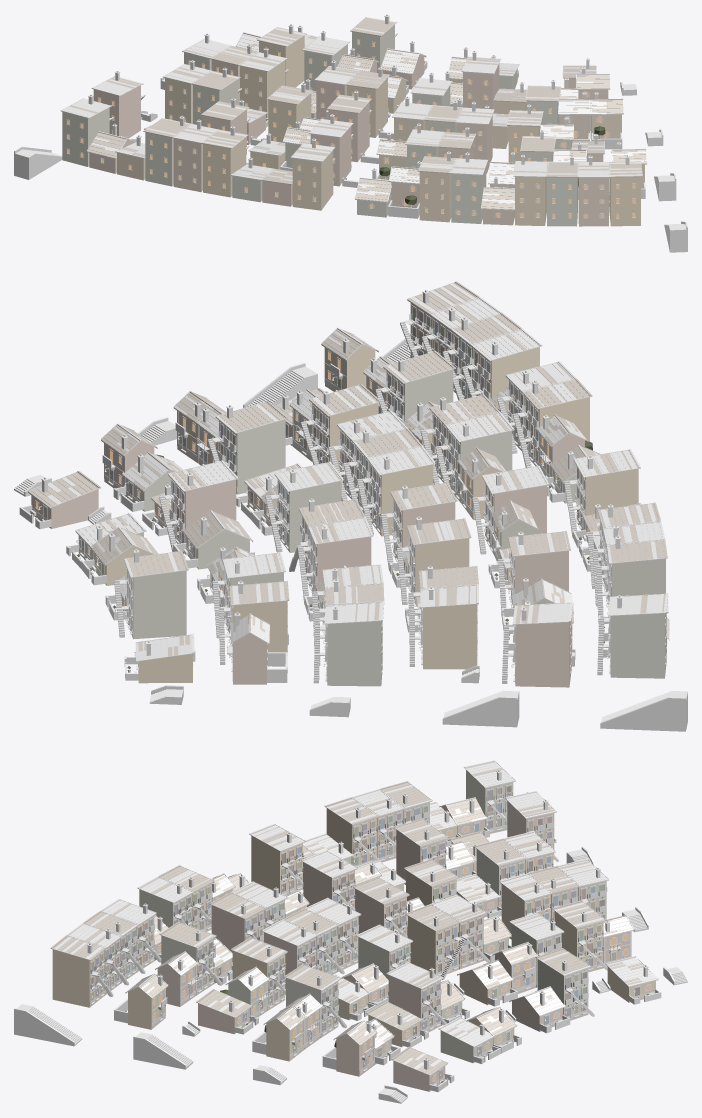
File: bld_moradas_SO.glb
3 renders of one model, top to bottom at view 1: azimuth 30°, elevation 25°; view 2: azimuth 150°, elevation 25°; view 3: azimuth 270°, elevation 25°, orthographic. The views are drawn at different scales.
Visible parts, largest first — view 1: Morada_SO_063_Body, Morada_SO_060_Body, Morada_SO_055_Body, Morada_SO_067_Body, Morada_SO_066_Body, Morada_SO_019_Body, Morada_SO_072_Body, Morada_SO_069_Body, Morada_SO_041_Body, Morada_SO_070_Body, Morada_SO_071_Body, Morada_SO_059_Body (+92 smaller); view 2: Morada_SO_041_Body, Morada_SO_055_Body, Morada_SO_002_Body, Morada_SO_017_Body, Morada_SO_029_Body, Morada_SO_026_Body, Morada_SO_013_Body, Morada_SO_063_Body, STAIRS_Terrace_Lateral_Morada_SW_20, Morada_SO_058_Body, Morada_SO_007_Body, Morada_SO_023_Body (+83 smaller); view 3: Morada_SO_072_Body, Morada_SO_022_Body, Morada_SO_063_Body, Morada_SO_013_Body, STAIRS_Terrace_Lateral_Morada_SW_24, Morada_SO_028_Body, Morada_SO_016_Body, Morada_SO_054_Body, Morada_SO_002_Body, Morada_SO_060_Body, Morada_SO_050_Body, Morada_SO_047_Body (+91 smaller).
Part boxes in pixels (x1,y1,x2,y2): Morada_SO_063_Body: [292, 150, 335, 210]; Morada_SO_060_Body: [203, 137, 249, 197]; Morada_SO_055_Body: [62, 107, 113, 166]; Morada_SO_067_Body: [451, 166, 486, 223]; Morada_SO_066_Body: [419, 171, 451, 222]; Morada_SO_019_Body: [240, 60, 288, 118]; Morada_SO_072_Body: [609, 177, 640, 226]; Morada_SO_069_Body: [515, 176, 546, 225]; Morada_SO_041_Body: [93, 85, 145, 138]; Morada_SO_070_Body: [547, 177, 577, 226]; Morada_SO_071_Body: [578, 177, 608, 226]; Morada_SO_059_Body: [173, 138, 202, 191]; Morada_SO_041_Body: [502, 619, 571, 687]; Morada_SO_055_Body: [597, 613, 666, 678]; Morada_SO_002_Body: [114, 570, 186, 639]; Morada_SO_017_Body: [313, 621, 382, 686]; Morada_SO_029_Body: [409, 604, 477, 669]; Morada_SO_026_Body: [207, 419, 285, 494]; Morada_SO_013_Body: [159, 479, 236, 551]; Morada_SO_063_Body: [564, 469, 638, 537]; STAIRS_Terrace_Lateral_Morada_SW_20: [600, 691, 687, 731]; Morada_SO_058_Body: [596, 559, 665, 617]; Morada_SO_007_Body: [227, 633, 287, 684]; Morada_SO_023_Body: [265, 481, 341, 552]; Morada_SO_072_Body: [52, 949, 113, 1007]; Morada_SO_022_Body: [407, 916, 465, 979]; Morada_SO_063_Body: [251, 836, 303, 895]; Morada_SO_013_Body: [388, 975, 447, 1031]; STAIRS_Terrace_Lateral_Morada_SW_24: [14, 1004, 82, 1046]; Morada_SO_028_Body: [252, 1019, 304, 1061]; Morada_SO_016_Body: [322, 1034, 374, 1076]; Morada_SO_054_Body: [114, 987, 167, 1029]; Morada_SO_002_Body: [537, 959, 594, 1020]; Morada_SO_060_Body: [326, 808, 382, 866]; Morada_SO_050_Body: [211, 905, 264, 961]; Morada_SO_047_Body: [303, 862, 355, 910].
Size of what is drawn, in the model's own units: 128 by 17.3 by 128.
Materials: 23 (19 with a texture image).
